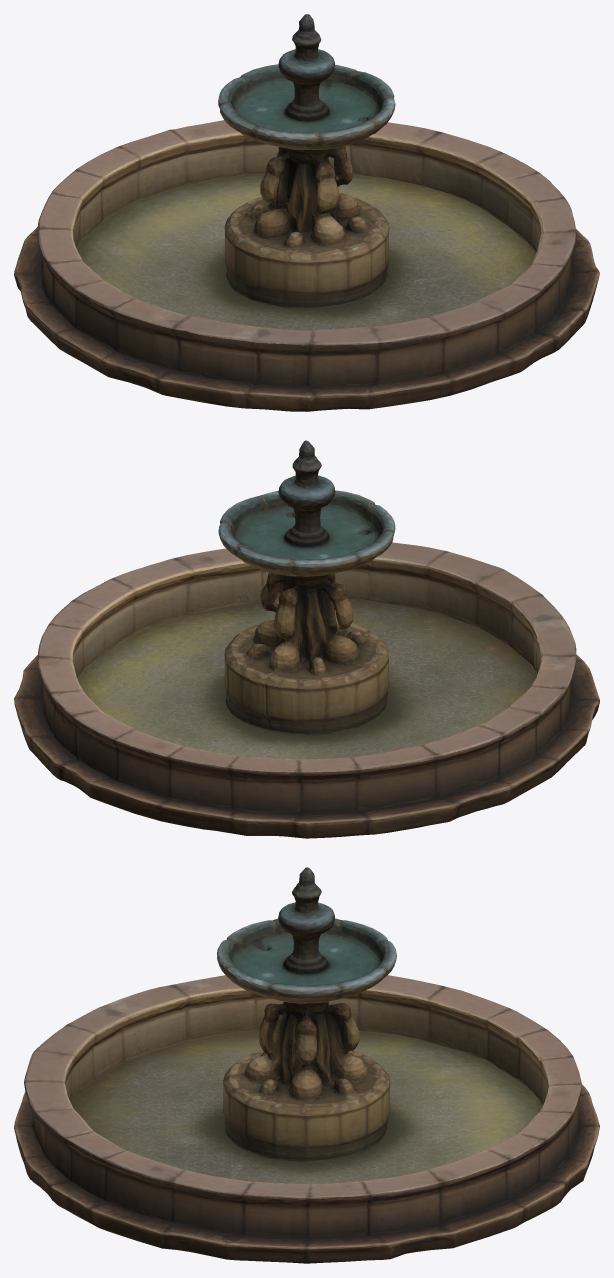
The model's file is prop.fountain.glb.
3 views of the same model, one above another, from view 1: azimuth 30°, elevation 25°; view 2: azimuth 150°, elevation 25°; view 3: azimuth 270°, elevation 25° (orthographic).
Parts seen in each view (by area): view 1: geometry_0; view 2: geometry_0; view 3: geometry_0.
Boxes of the visible parts, x1,y1,x2,y2 form: geometry_0: [14, 14, 599, 411]; geometry_0: [14, 440, 599, 838]; geometry_0: [14, 867, 599, 1263].
Size of the model in its own units: 0.9891 by 0.5216 by 0.9993.
1 material, 1 textured.
